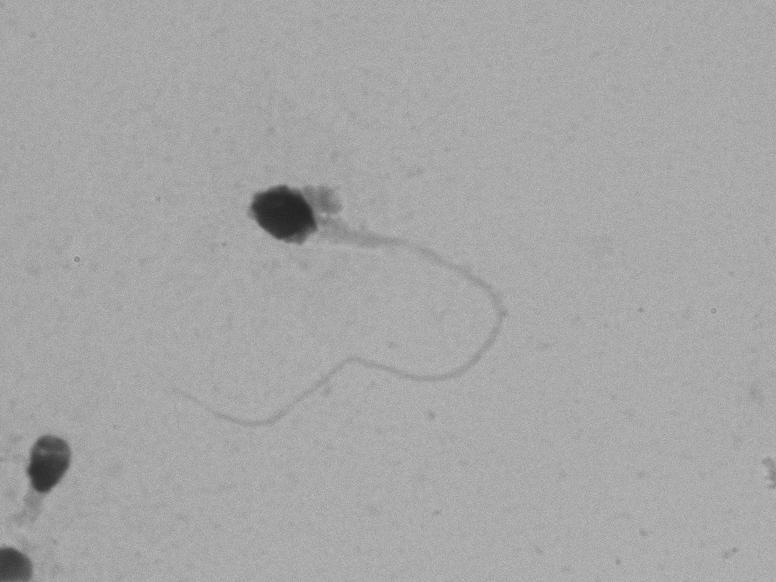Abnormal: (174, 160, 567, 475)
